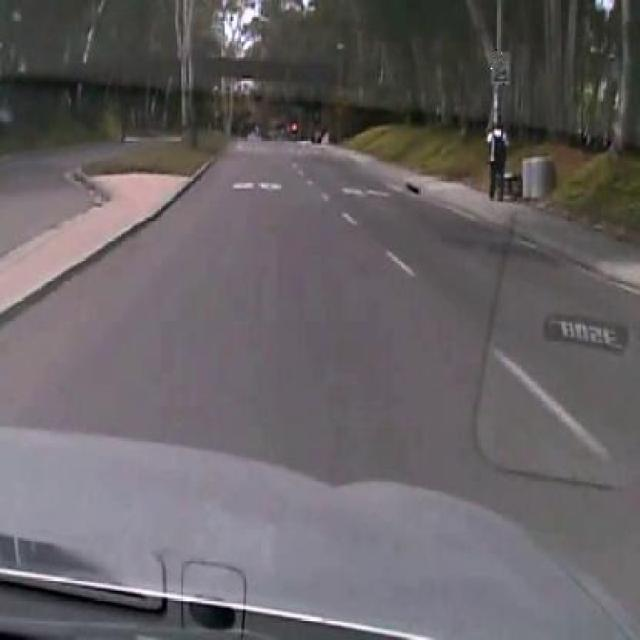speedLimit25: (489, 48, 510, 86)
